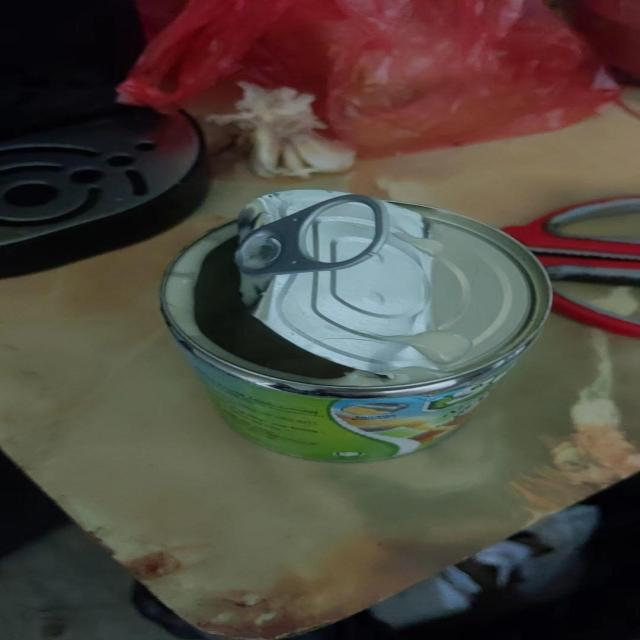can: (161, 190, 551, 468)
pop tab: (232, 194, 395, 277)
